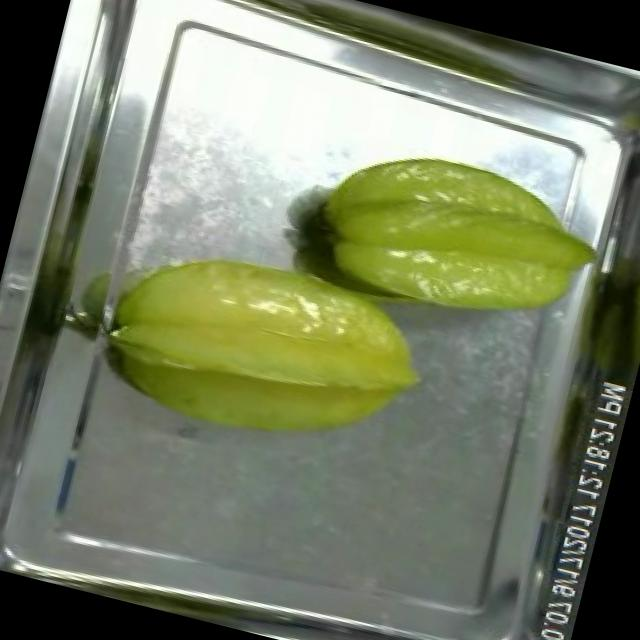fruit: (74, 211, 452, 487), (299, 125, 610, 352)
